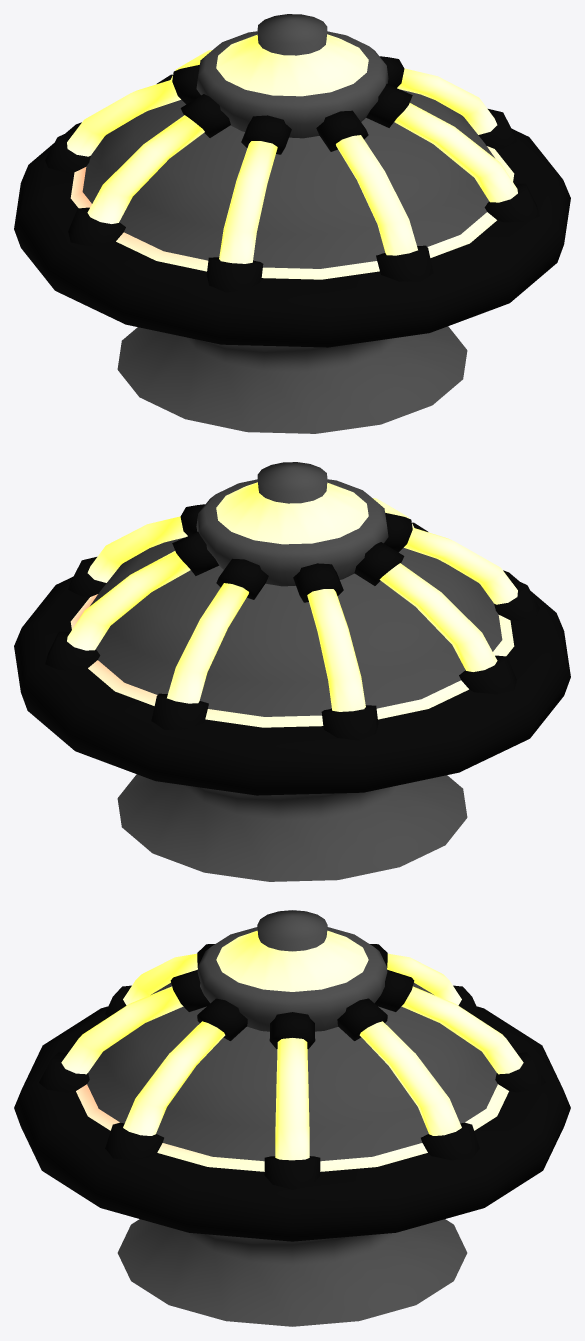
The model's file is mesh_Factory_Trap_Bumper.fbx.
3 views of the same model, one above another, from view 1: azimuth 30°, elevation 25°; view 2: azimuth 150°, elevation 25°; view 3: azimuth 270°, elevation 25° (orthographic).
Visible parts, largest first — view 1: mesh_Factory_Trap_Bumper; view 2: mesh_Factory_Trap_Bumper; view 3: mesh_Factory_Trap_Bumper.
Boxes of the visible parts, left/top/right/bottom form: mesh_Factory_Trap_Bumper: left=14, top=14, right=570, bottom=433; mesh_Factory_Trap_Bumper: left=14, top=462, right=570, bottom=881; mesh_Factory_Trap_Bumper: left=14, top=910, right=570, bottom=1326.
Bounding box in the file's own units: 2.96 × 1.97 × 2.96.
